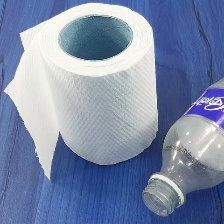bottle: (136, 70, 224, 220)
tissue: (0, 0, 164, 187)
